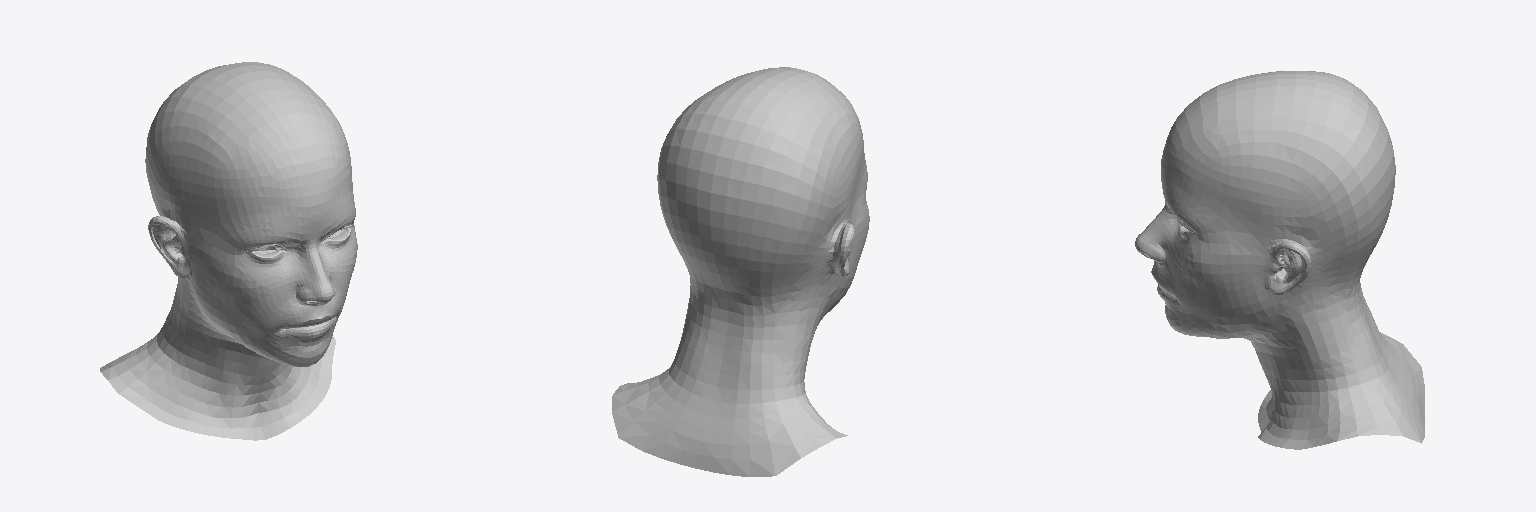
The model's file is Female_Simple_Mesh_Head.obj.
3 renders of one model, left to right at view 1: azimuth 30°, elevation 25°; view 2: azimuth 150°, elevation 25°; view 3: azimuth 270°, elevation 25°, orthographic.
Visible parts, largest first — view 1: Body; view 2: Body; view 3: Body.
Part boxes in pixels (left/top/right/bottom): Body: left=100, top=62, right=357, bottom=440; Body: left=612, top=67, right=869, bottom=476; Body: left=1135, top=71, right=1424, bottom=449.
Size of the model in its own units: 20.93 by 32.53 by 24.13.